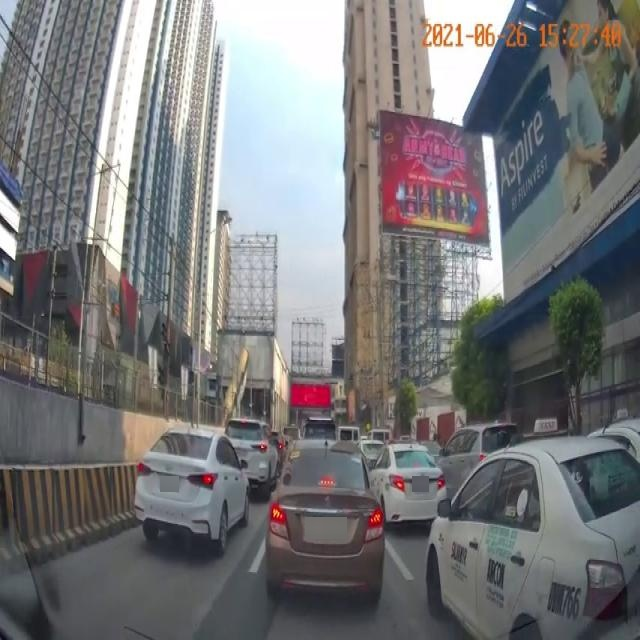car: (429, 429, 640, 635), (264, 435, 386, 593), (141, 428, 248, 564), (377, 441, 446, 530)
